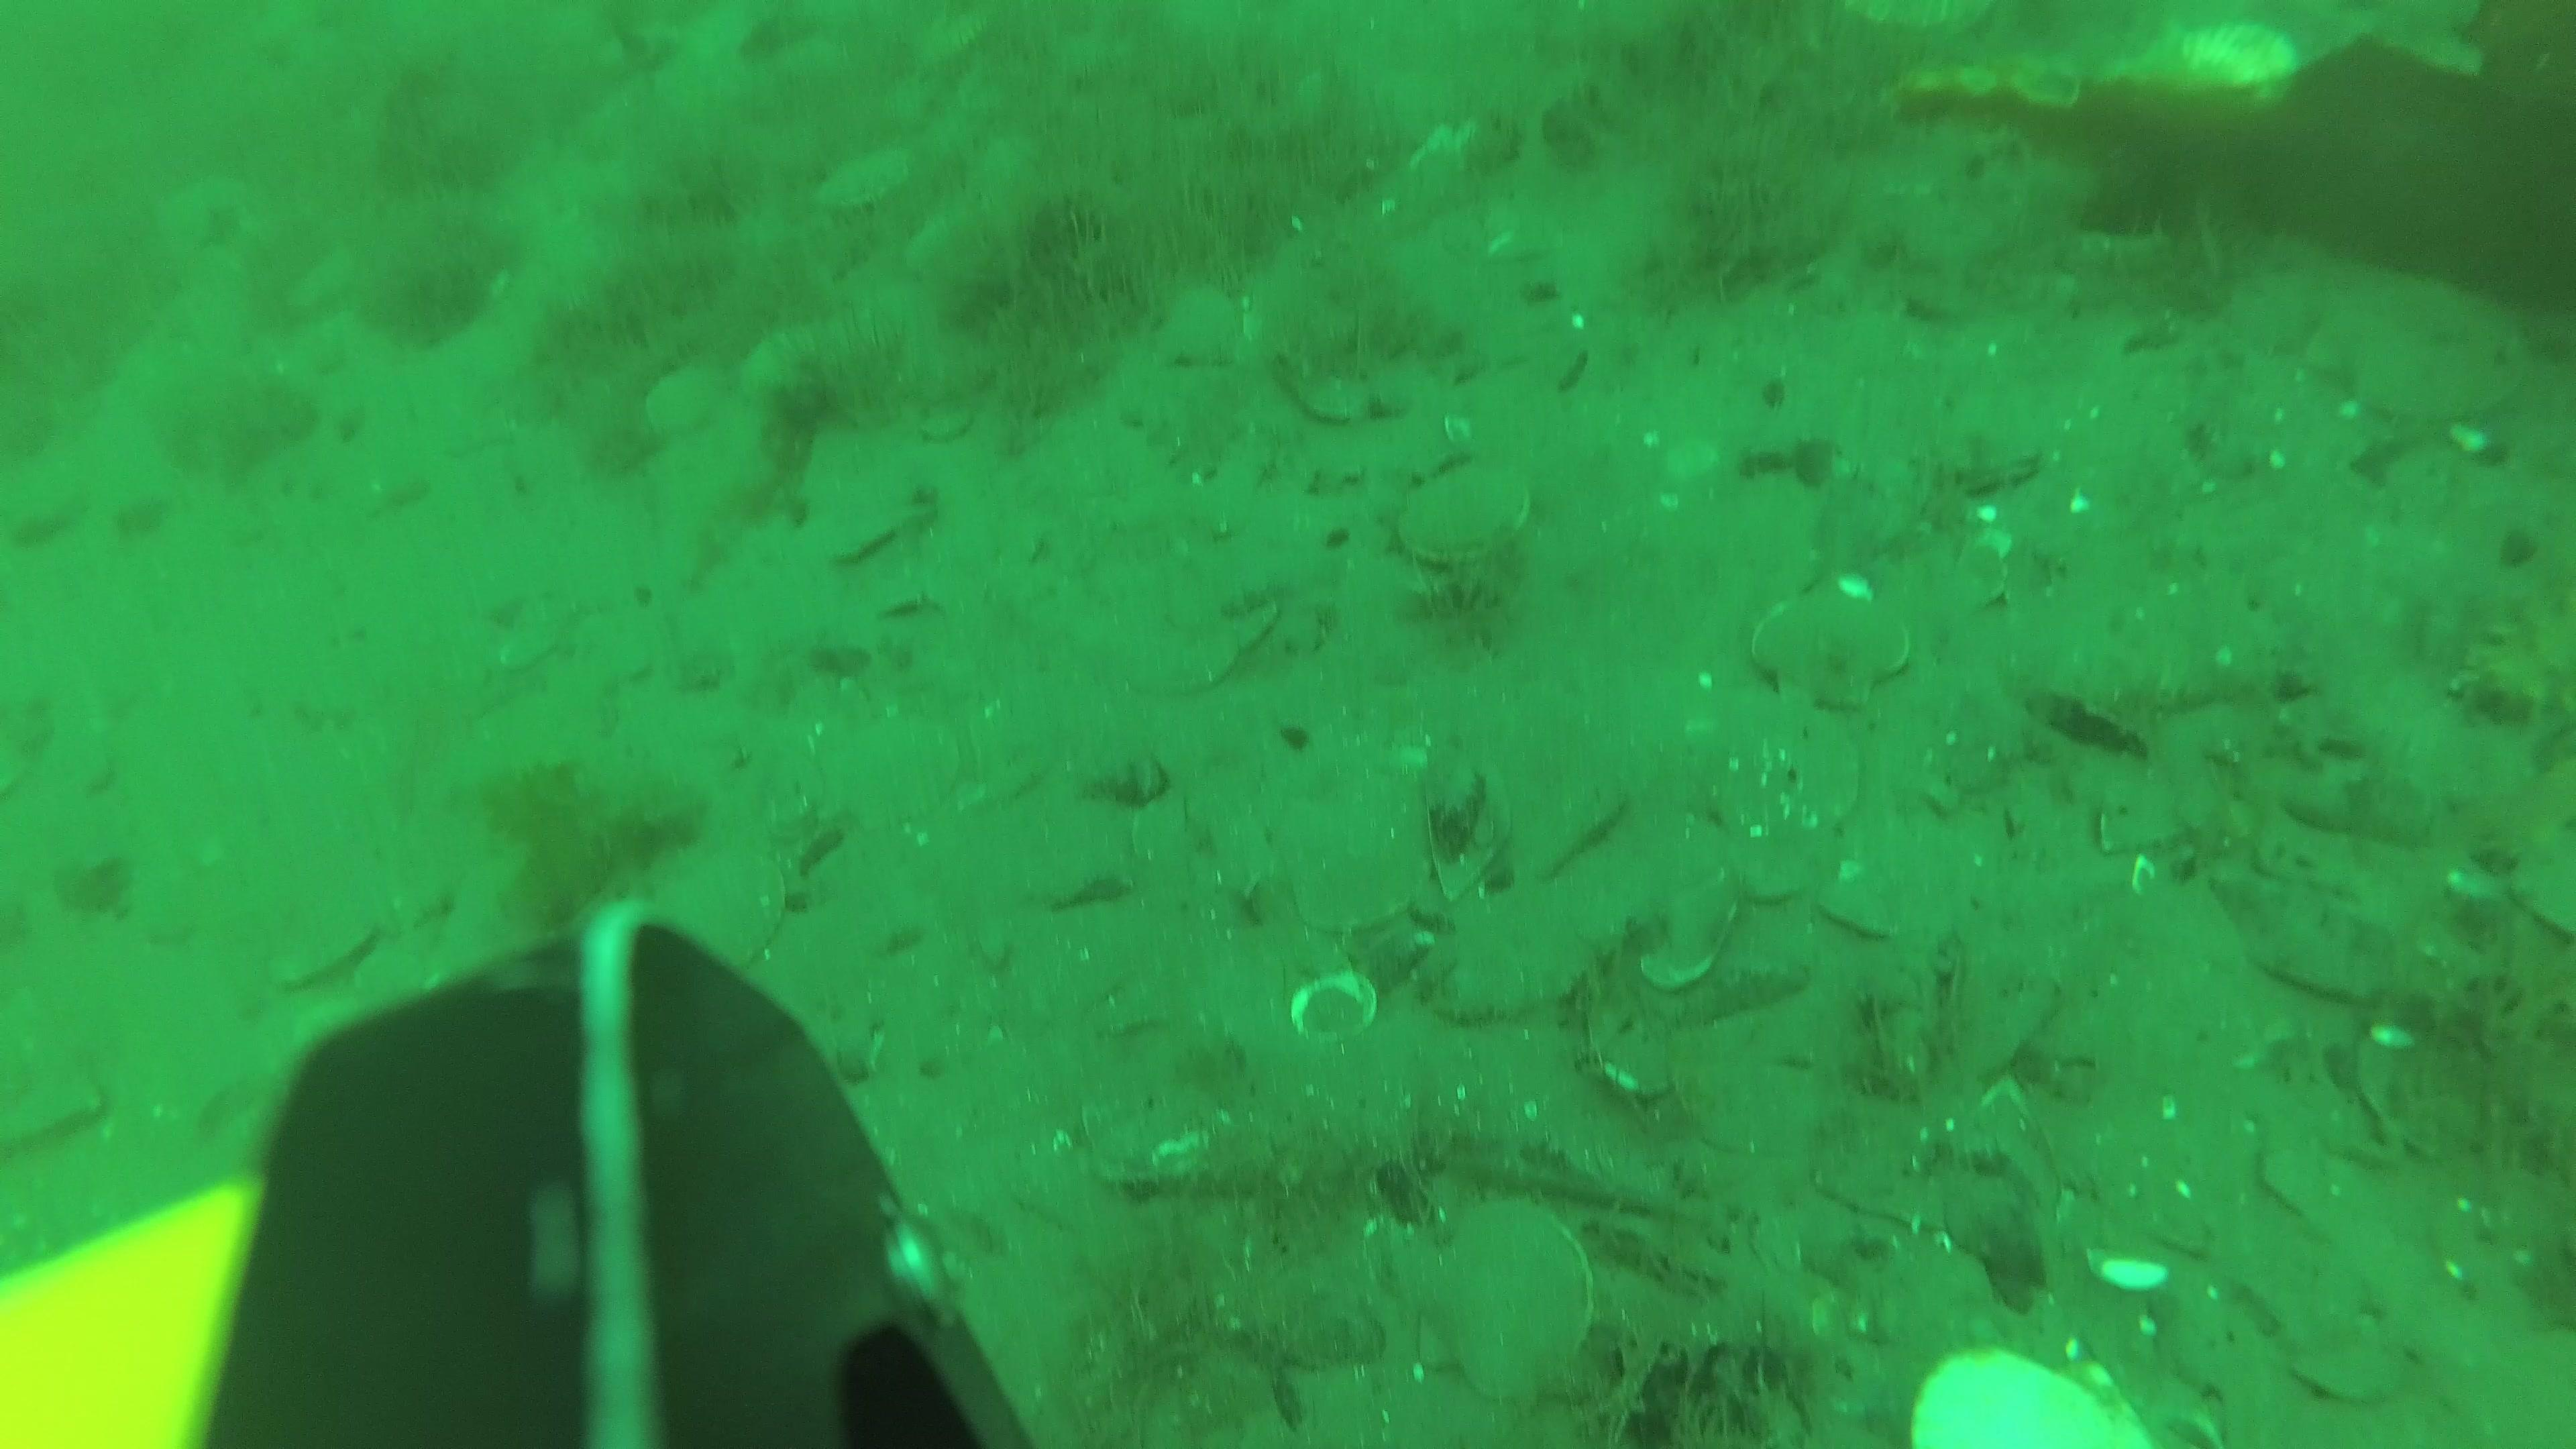scallop: (1403, 1200, 1599, 1401), (2318, 267, 2526, 430), (1270, 750, 1444, 941), (1709, 697, 1877, 840), (648, 847, 794, 985), (1752, 591, 1916, 713), (824, 711, 962, 830), (2127, 27, 2298, 106), (1407, 472, 1537, 573), (2296, 1307, 2420, 1405), (819, 149, 936, 223), (1150, 281, 1247, 370), (640, 361, 729, 442)
